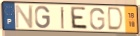D: (108, 6, 125, 33)
E: (70, 6, 89, 31)
G: (34, 5, 51, 30), (89, 7, 106, 31)
I: (60, 6, 65, 30)
N: (14, 4, 35, 29)
